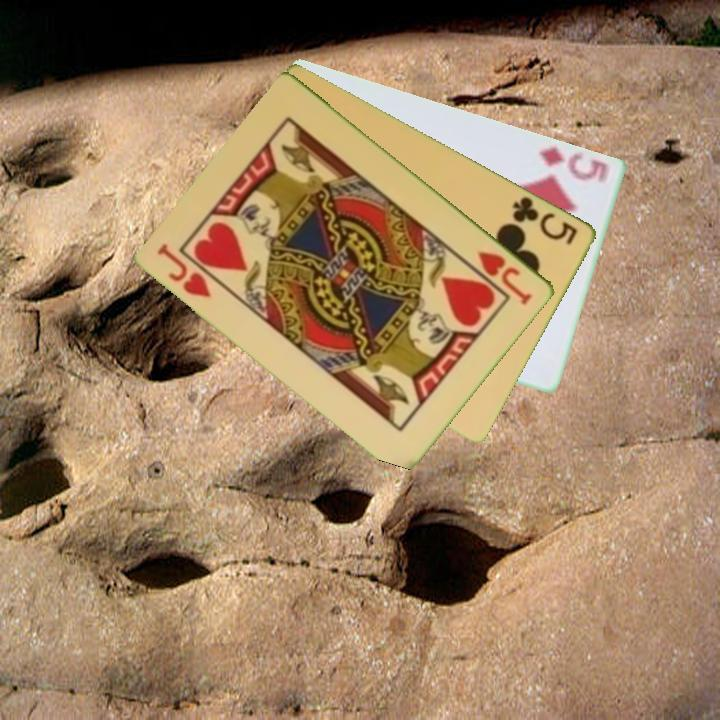5c: (509, 193, 581, 248)
5d: (536, 143, 613, 185)
Jh: (474, 247, 536, 308), (154, 240, 215, 301)
